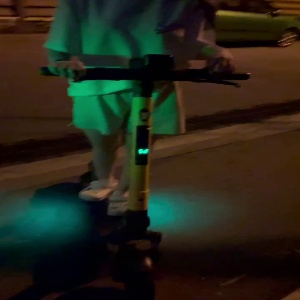human on a scooter: (38, 1, 254, 300)
